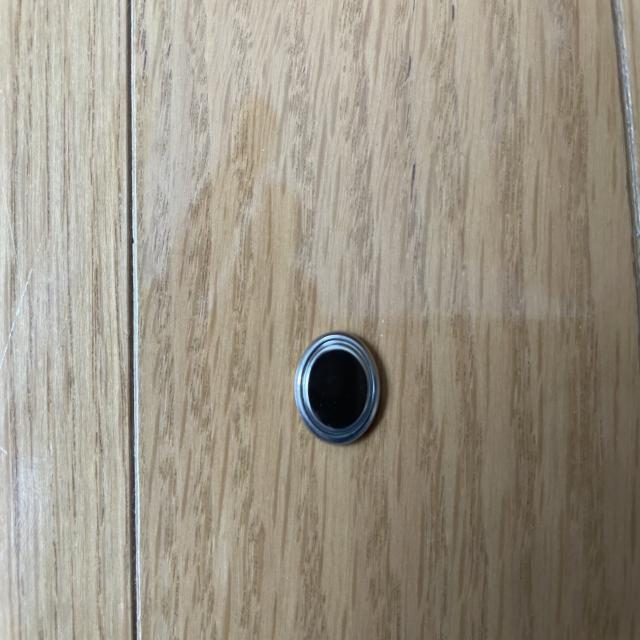COIN: (294, 328, 384, 446)
